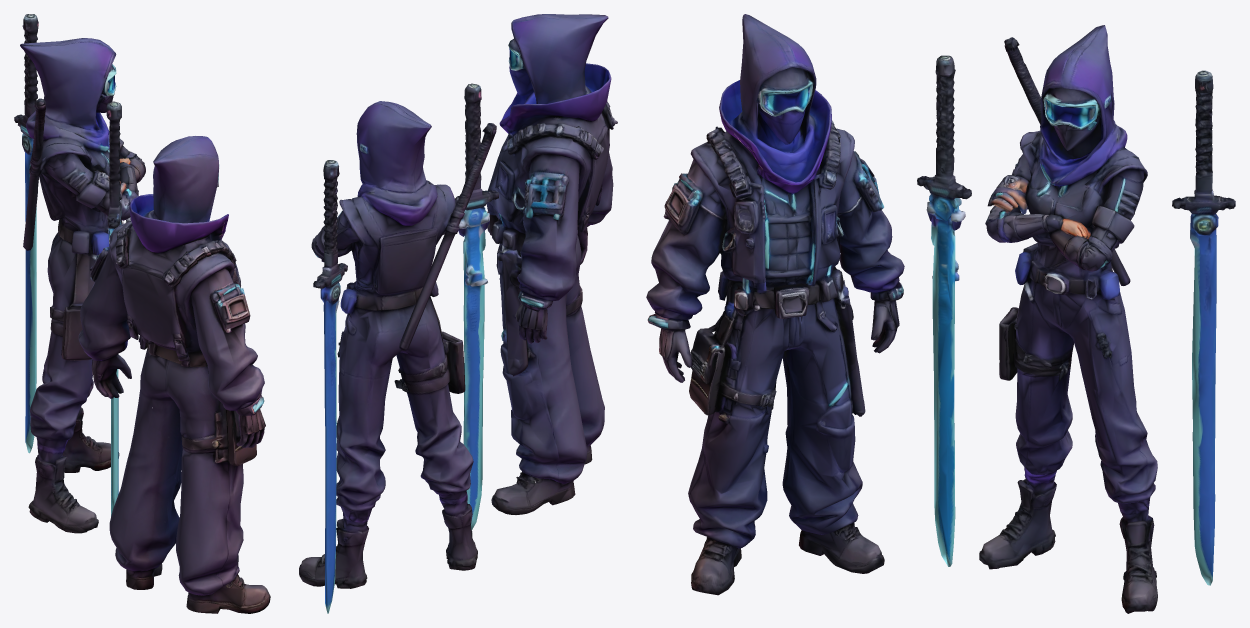
The model's file is tripo_h31_character_cyberpunk_ninja_kit.glb.
3 renders of one model, left to right at view 1: azimuth 30°, elevation 25°; view 2: azimuth 150°, elevation 25°; view 3: azimuth 270°, elevation 25°, orthographic. The views are drawn at different scales.
Parts seen in each view (by area): view 1: tripo_node_f1878c65-178d-4eca-8396-71a4c7b49d98; view 2: tripo_node_f1878c65-178d-4eca-8396-71a4c7b49d98; view 3: tripo_node_f1878c65-178d-4eca-8396-71a4c7b49d98.
Part boxes in pixels (x1,y1,x2,y2): tripo_node_f1878c65-178d-4eca-8396-71a4c7b49d98: (14, 14, 270, 613); tripo_node_f1878c65-178d-4eca-8396-71a4c7b49d98: (299, 14, 617, 613); tripo_node_f1878c65-178d-4eca-8396-71a4c7b49d98: (646, 14, 1235, 613).
Bounding box in the file's own units: 0.3508 × 0.9745 × 0.98.
Materials: 1 (1 with a texture image).
